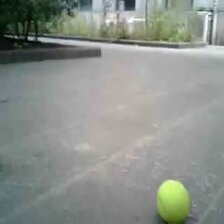tennis: (155, 180, 190, 224)
